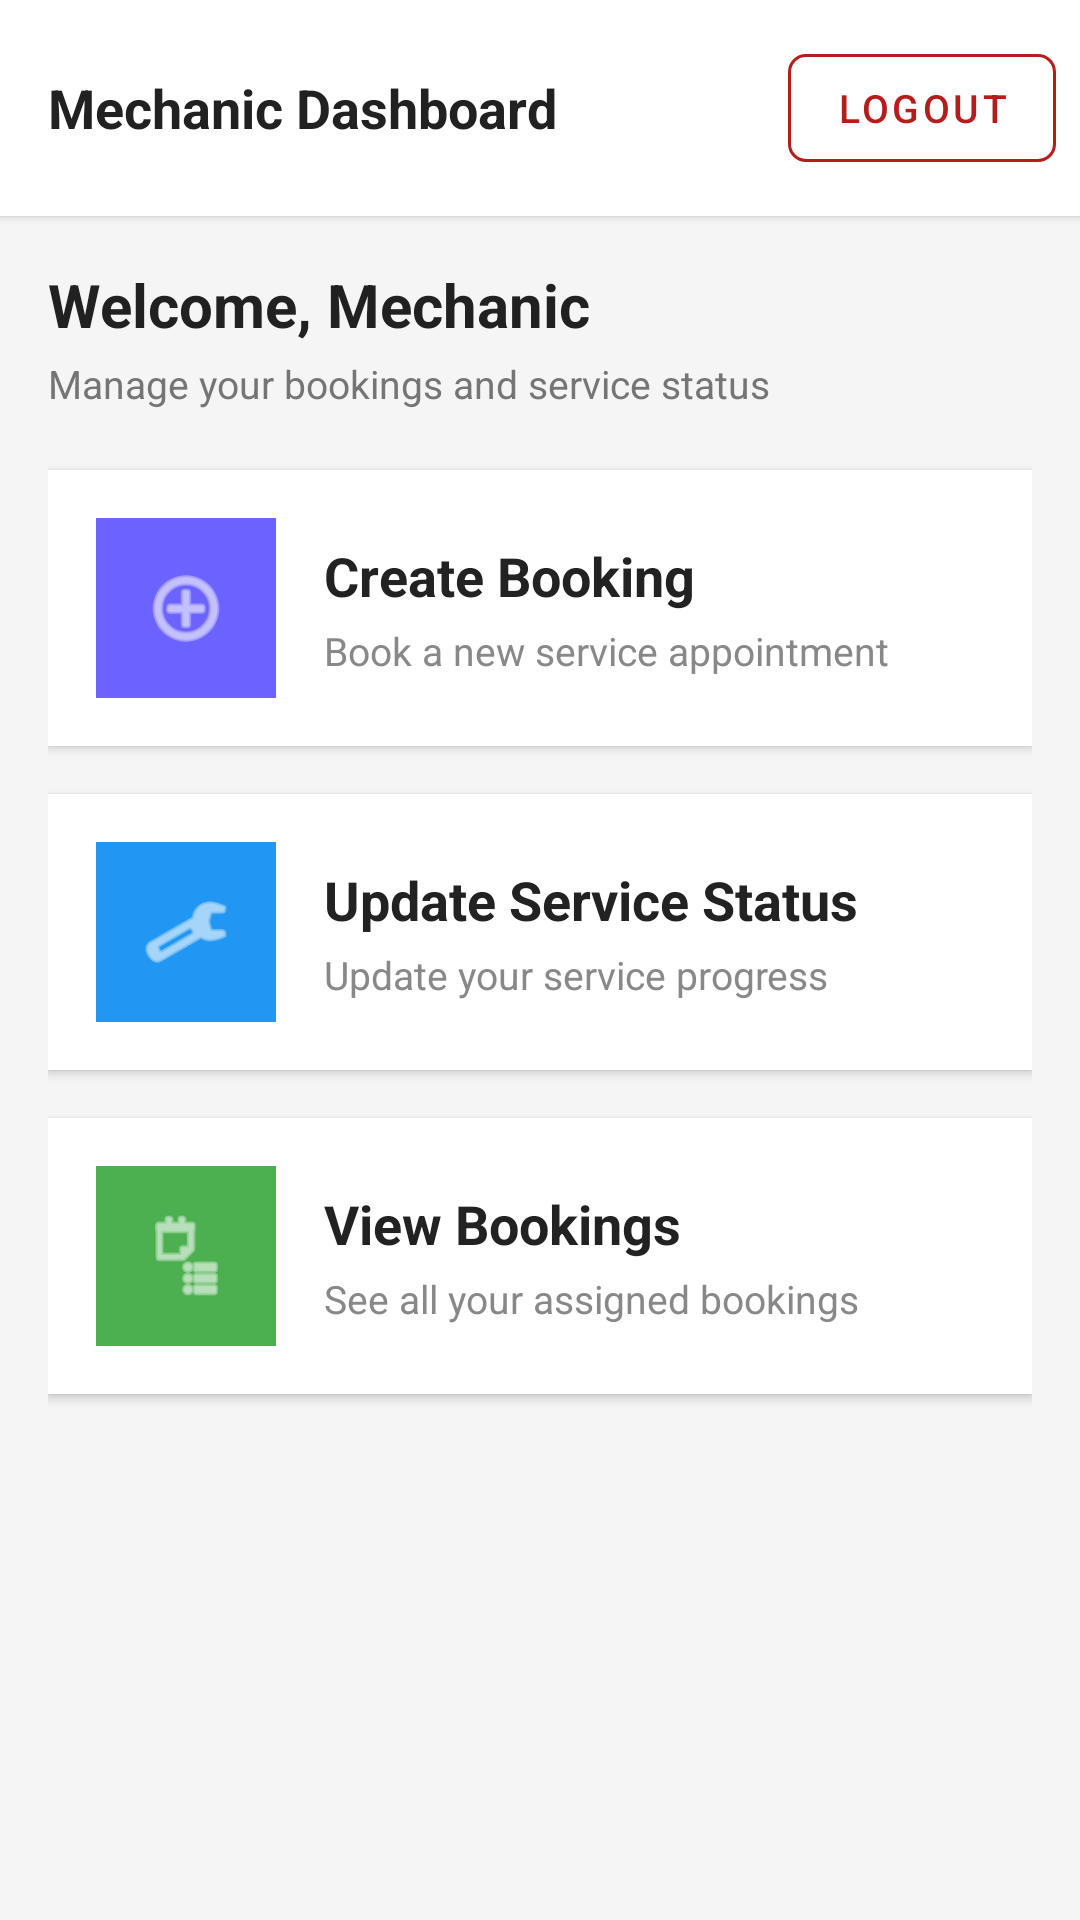

Locate icon controls on the screen. Image size 1080x1920, boxes as bbox=[x1, y1, x2, y2].
add: bbox=[153, 575, 219, 642]
agenda: bbox=[155, 1216, 218, 1296]
manage: bbox=[145, 901, 227, 963]
